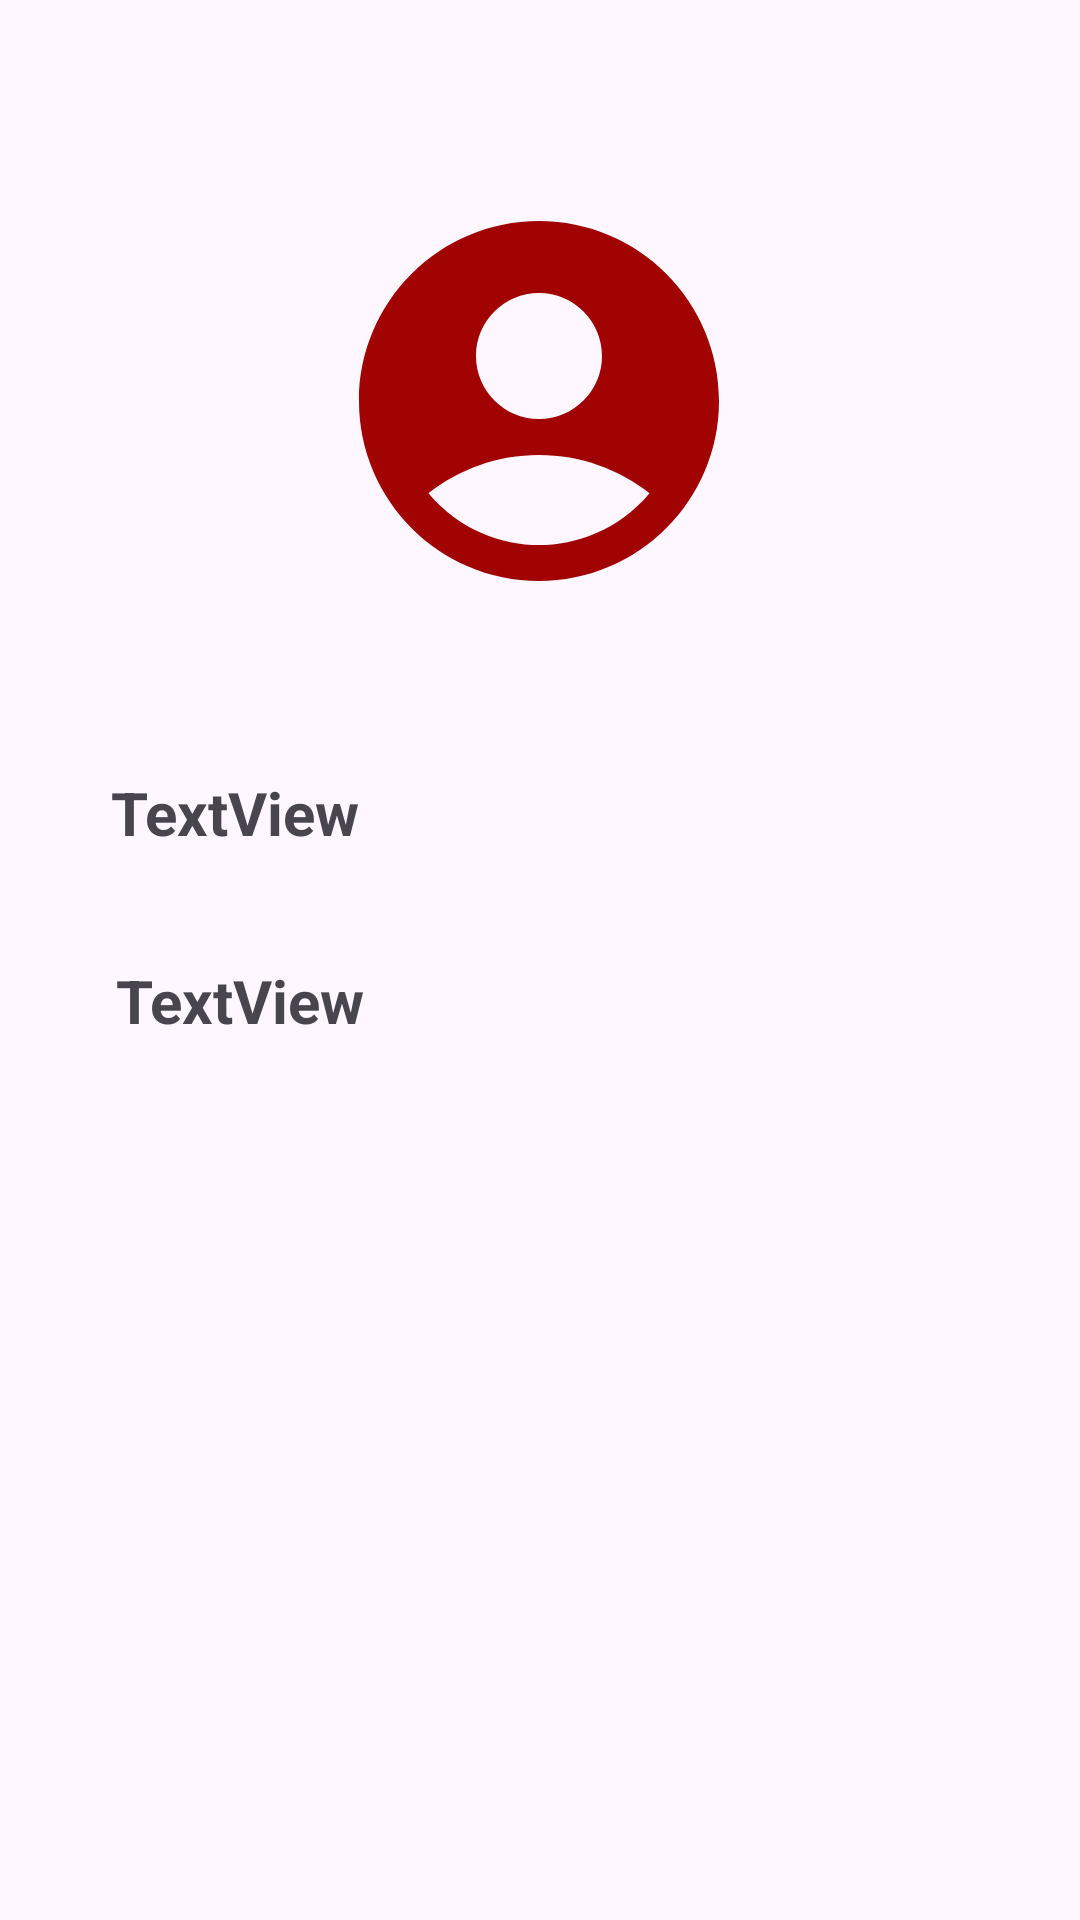

Icon click points for this 1080x1920 phone screenshot, format point (x, y):
account: point (539, 401)
